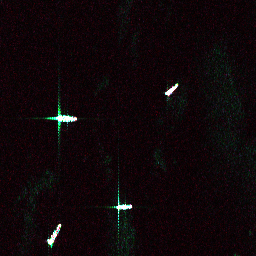ship: (45, 221, 63, 246), (162, 80, 181, 98), (55, 114, 78, 123), (114, 204, 133, 211)
